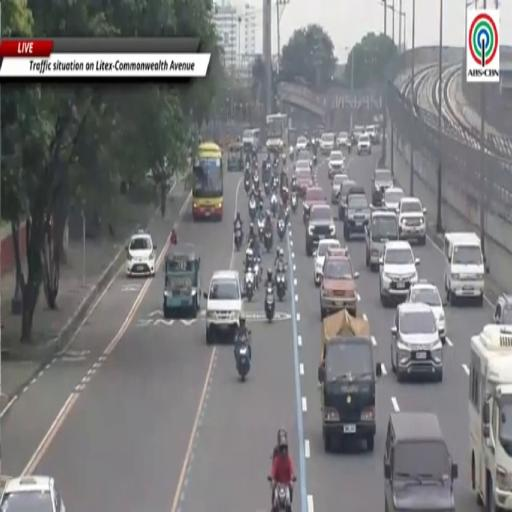bus: (192, 142, 223, 220), (267, 114, 288, 152)
car: (384, 412, 458, 511), (391, 302, 443, 381), (204, 270, 244, 344), (379, 240, 419, 306), (321, 250, 359, 319), (408, 280, 446, 343), (0, 476, 65, 511), (365, 210, 399, 271), (306, 204, 335, 255), (126, 230, 156, 277), (344, 187, 370, 241), (397, 198, 426, 245), (314, 238, 340, 285), (303, 186, 326, 221), (338, 179, 356, 221), (372, 169, 393, 205), (294, 168, 313, 198), (493, 294, 511, 325), (383, 186, 404, 212), (331, 174, 349, 204), (328, 151, 344, 179), (320, 133, 335, 154), (357, 134, 371, 155), (296, 150, 312, 168), (295, 158, 311, 172), (366, 125, 377, 145), (353, 125, 365, 140), (296, 137, 308, 151), (337, 132, 348, 147)
jeepney: (164, 248, 200, 318), (228, 142, 244, 171)
motorcycle: (236, 339, 250, 380), (273, 483, 291, 511), (276, 264, 287, 301), (265, 284, 275, 322), (245, 266, 254, 301), (254, 258, 261, 290), (270, 191, 278, 218), (264, 229, 273, 253), (234, 227, 242, 250), (277, 218, 285, 241), (245, 246, 253, 268), (249, 197, 256, 220), (258, 217, 264, 242), (291, 191, 297, 213), (253, 172, 259, 189), (285, 205, 290, 225), (272, 175, 278, 191), (245, 176, 250, 194), (264, 181, 270, 196), (289, 147, 294, 161), (245, 162, 250, 172), (282, 153, 286, 165), (313, 155, 317, 166)
truck: (318, 310, 381, 452), (469, 325, 511, 510), (266, 114, 288, 154)
